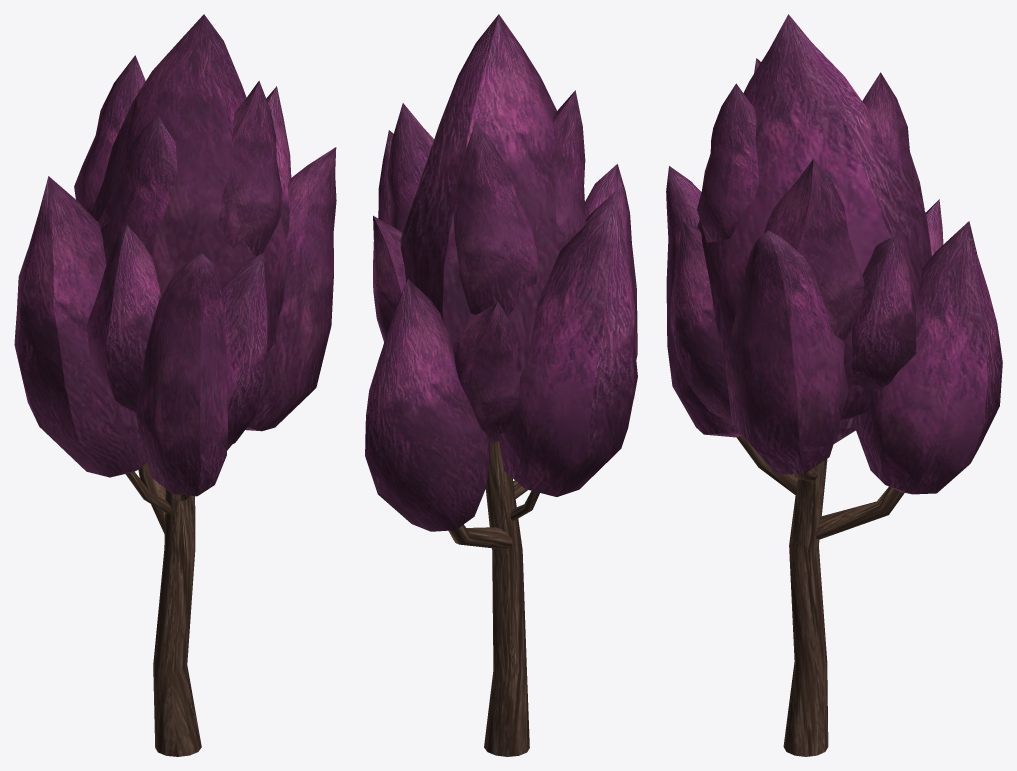
File: tree04.glb
3 views of the same model, side by side, from view 1: azimuth 30°, elevation 25°; view 2: azimuth 150°, elevation 25°; view 3: azimuth 270°, elevation 25° (orthographic). The views are drawn at different scales.
Parts seen in each view (by area): view 1: Tree04; view 2: Tree04; view 3: Tree04.
Part boxes in pixels (x1,y1,x2,y2): Tree04: (14, 14, 336, 756); Tree04: (365, 14, 637, 756); Tree04: (666, 14, 1002, 756).
Bounding box in the file's own units: 3.84 × 9.5 × 3.91.
2 materials, 2 textured.
